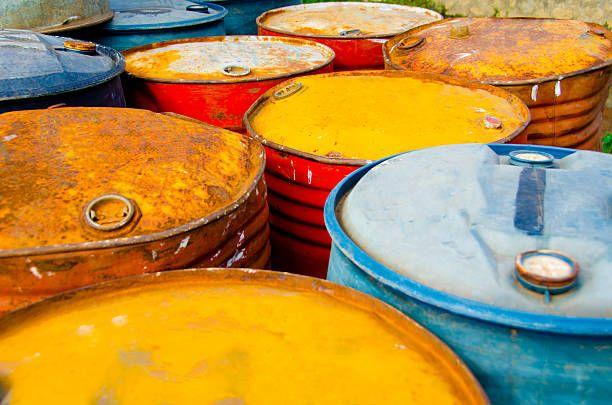metal: (320, 141, 612, 405), (0, 264, 491, 405), (241, 67, 533, 280), (0, 102, 280, 324), (380, 11, 612, 156), (119, 33, 339, 138), (254, 0, 447, 75), (0, 24, 129, 114)
